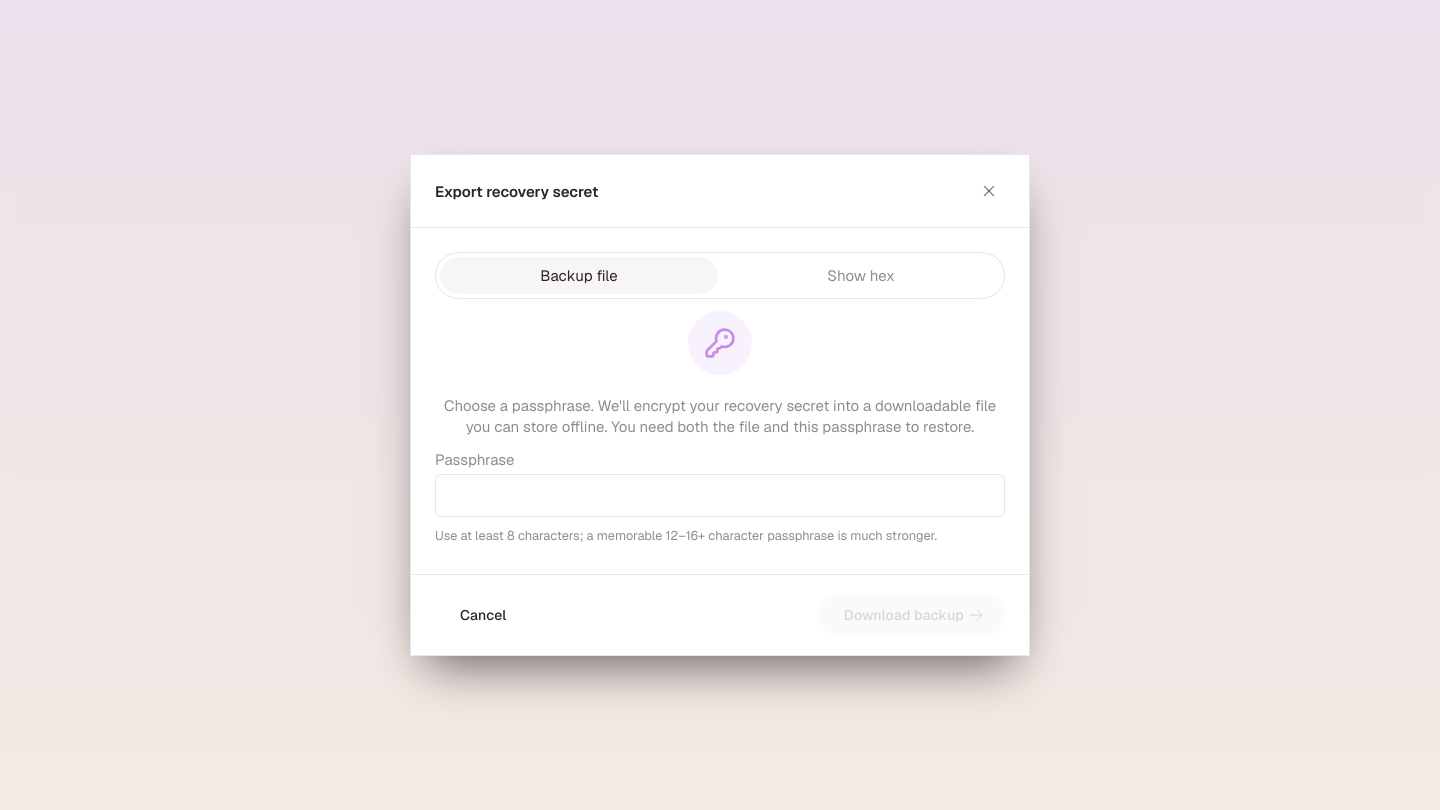
Test: <RecoverySecretExportDialog> — hex mode › surfaces an error when the keyManager is locked
The image size is (1440, 810).
Click the tab "Show hex" at (861, 276), box [722, 257, 1000, 294]
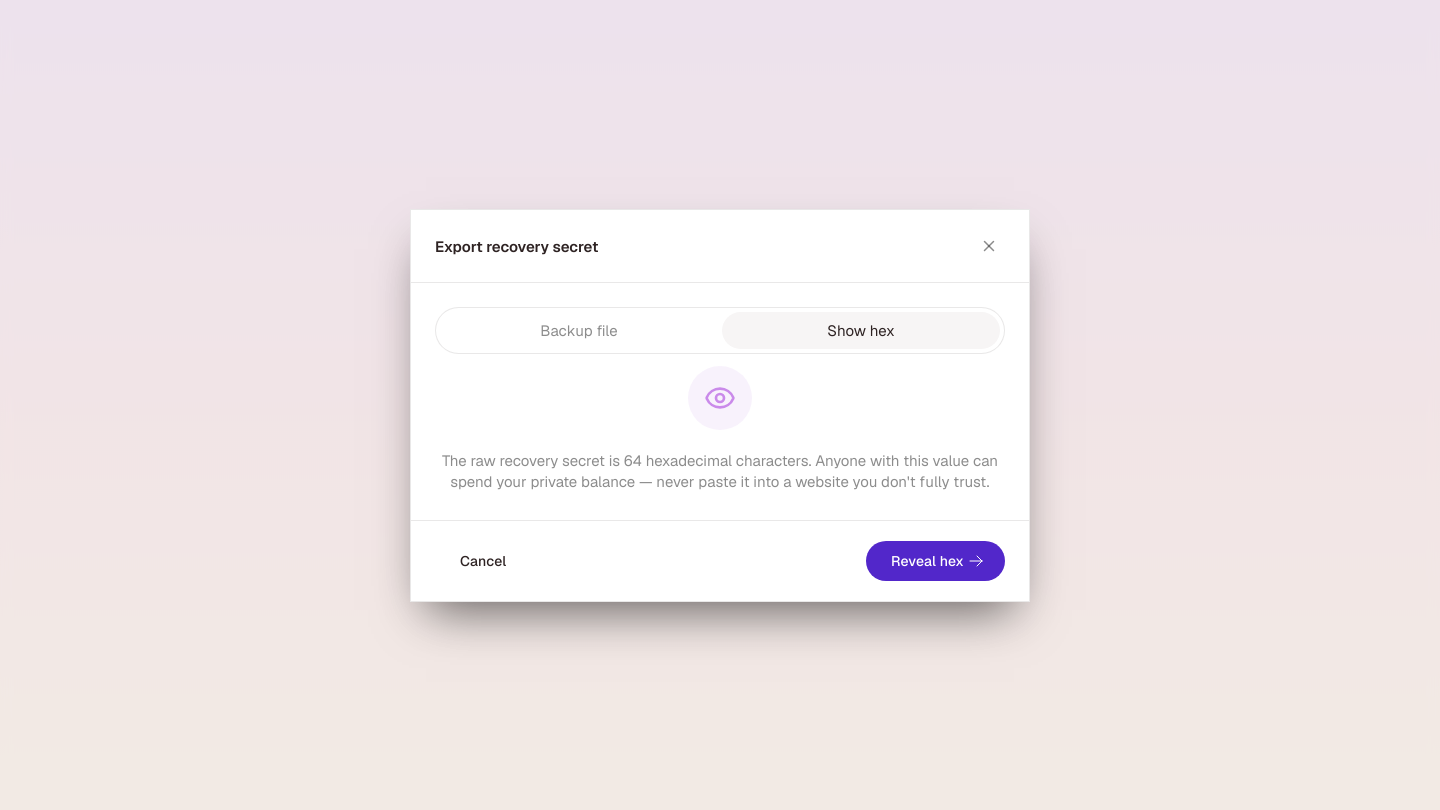
Click the button "Reveal hex" at (936, 560), box [866, 540, 1005, 580]
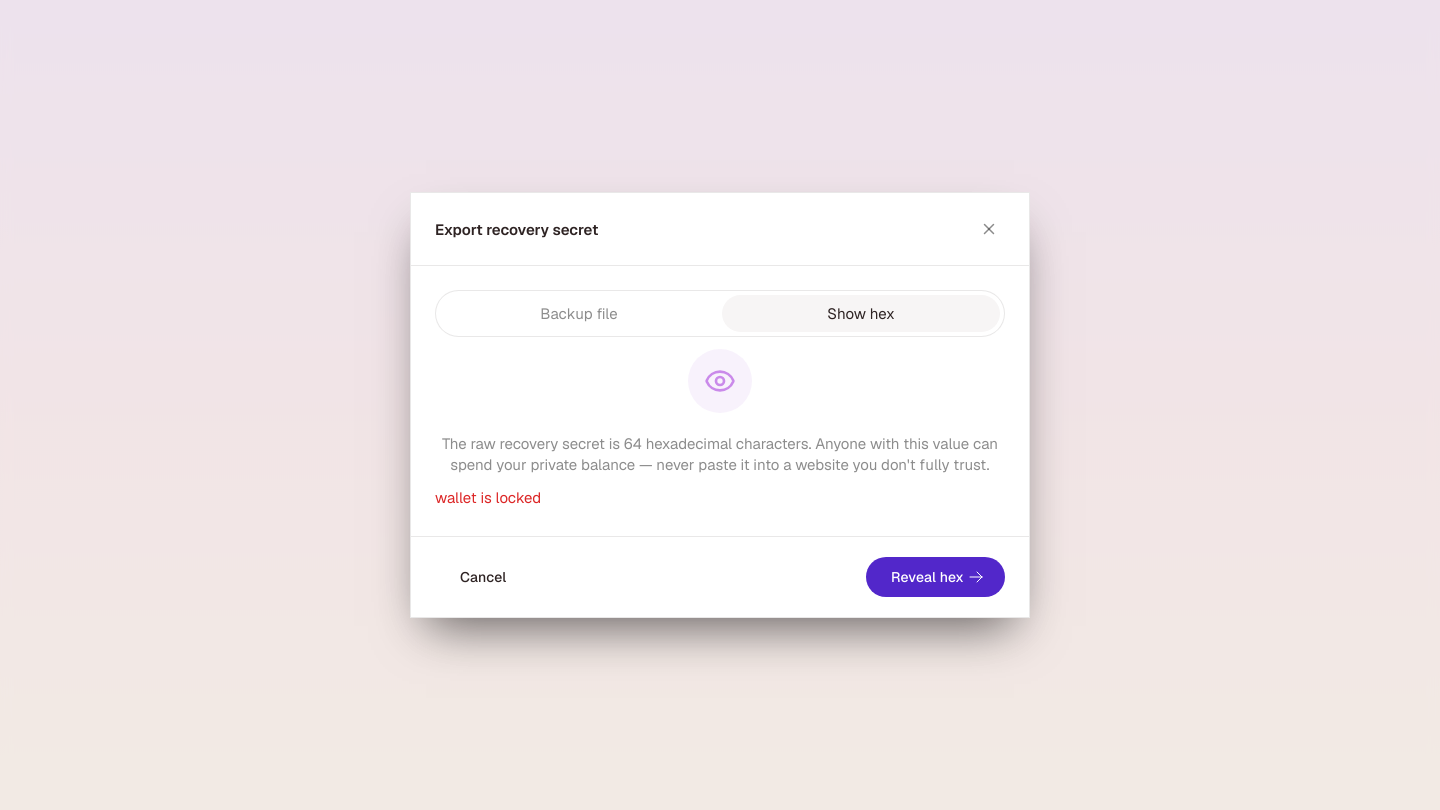
expect the message shows "locked": met, box [435, 488, 541, 507]
